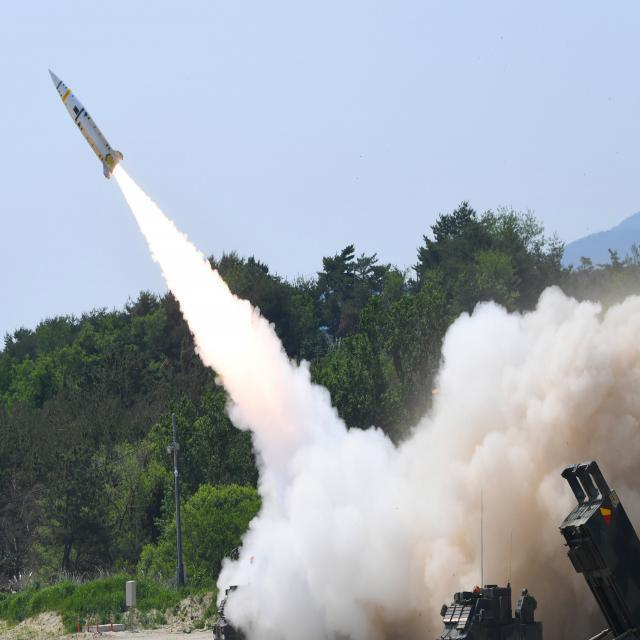missile: (43, 56, 128, 186)
